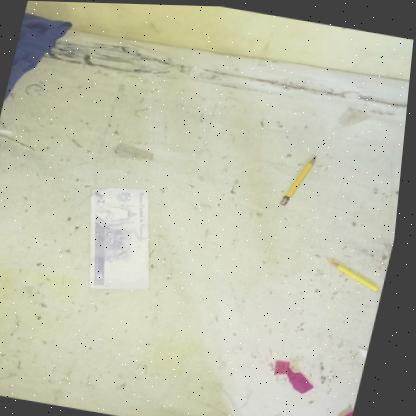ten-back-vef: (71, 180, 177, 295)
